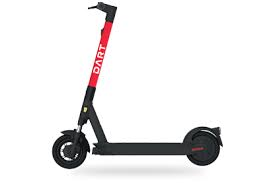kick_board: (52, 2, 222, 168)
kick_body: (96, 142, 184, 154)
kick_handler: (88, 2, 117, 21)
kick_neck: (77, 23, 112, 123)
kick_wheel: (51, 129, 90, 168), (185, 125, 223, 165)
